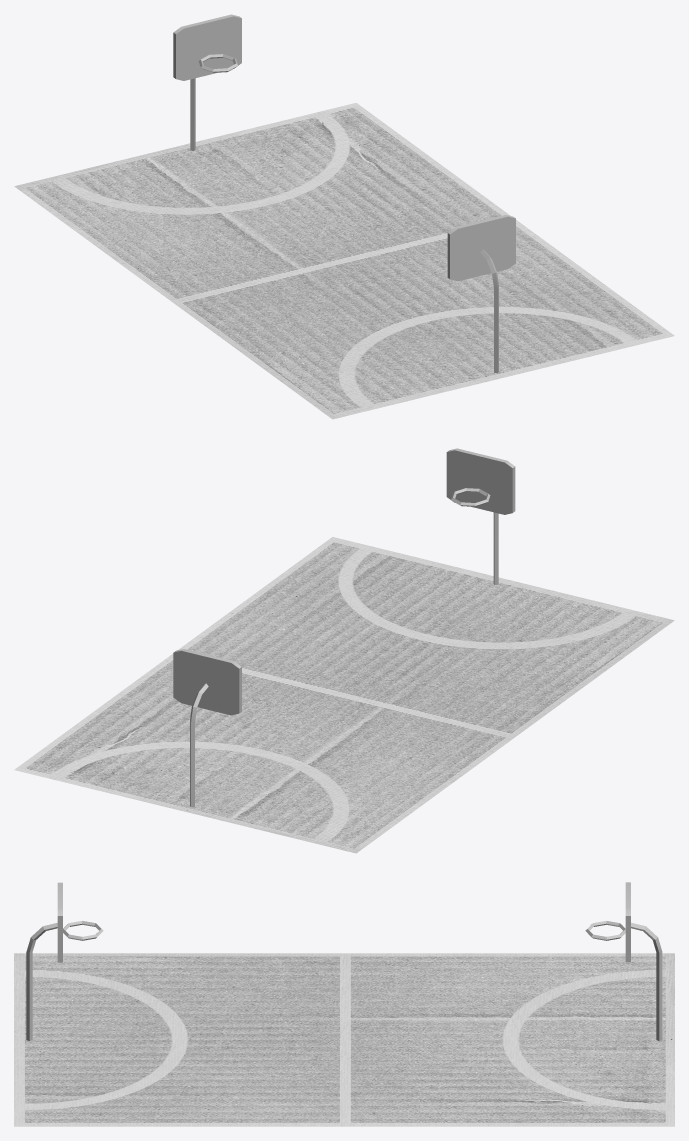
File: basketball_court.fbx
The picture shows the model from 3 angles, top to bottom: view 1: azimuth 30°, elevation 25°; view 2: azimuth 150°, elevation 25°; view 3: azimuth 270°, elevation 25°; orthographic projection. The views are drawn at different scales.
Visible parts, largest first — view 1: basketBall_court_decal, basketball_hoop_south, basketball_hoop_north; view 2: basketBall_court_decal, basketball_hoop_north, basketball_hoop_south; view 3: basketBall_court_decal, basketball_hoop_north, basketball_hoop_south.
Part boxes in pixels (x1,y1,x2,y2): basketBall_court_decal: (14, 103, 674, 419); basketball_hoop_south: (447, 214, 515, 373); basketball_hoop_north: (173, 14, 241, 150); basketBall_court_decal: (14, 537, 674, 853); basketball_hoop_north: (173, 649, 241, 807); basketball_hoop_south: (446, 448, 515, 584); basketBall_court_decal: (14, 953, 674, 1126); basketball_hoop_north: (585, 882, 662, 1041); basketball_hoop_south: (26, 882, 103, 1040).
Bounding box in the file's own units: 1331 × 519 × 2145.
